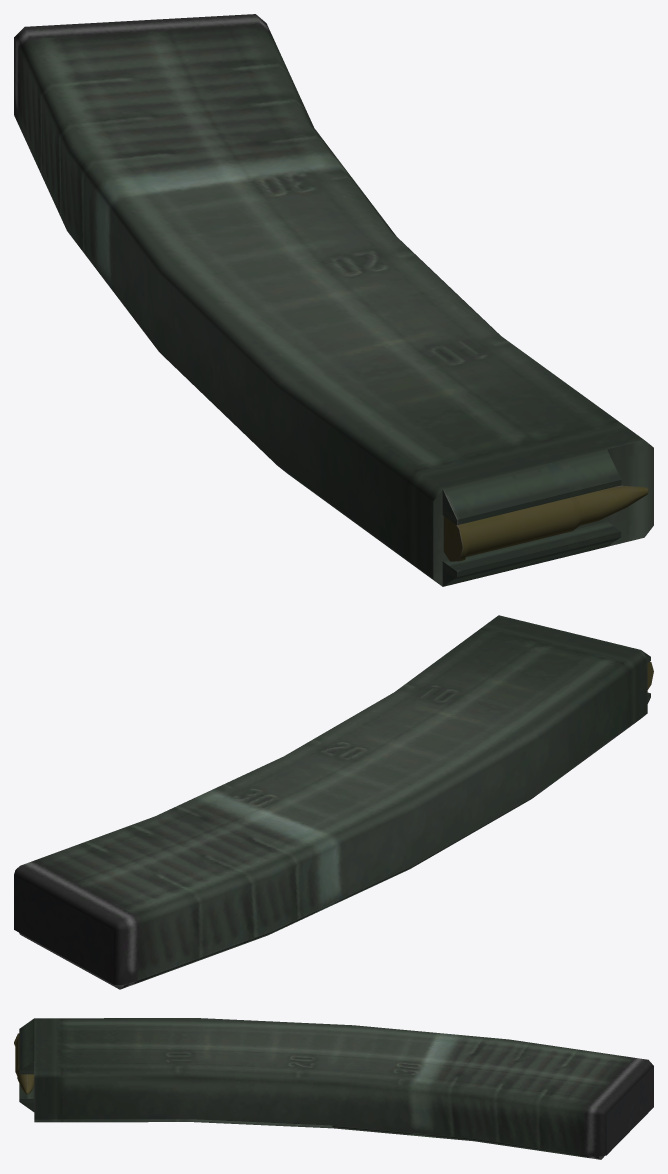
The model's file is t6_attach_mag_chicom_view_LOD0.obj.
The picture shows the model from 3 angles, top to bottom: view 1: azimuth 30°, elevation 25°; view 2: azimuth 150°, elevation 25°; view 3: azimuth 270°, elevation 25°; orthographic projection. The views are drawn at different scales.
Visible parts, largest first — view 1: mtl_t6_wpn_smg_chicom_camo1; view 2: mtl_t6_wpn_smg_chicom_camo1; view 3: mtl_t6_wpn_smg_chicom_camo1.
Part boxes in pixels (x1,y1,x2,y2): mtl_t6_wpn_smg_chicom_camo1: [14, 14, 653, 586]; mtl_t6_wpn_smg_chicom_camo1: [14, 615, 653, 989]; mtl_t6_wpn_smg_chicom_camo1: [14, 1018, 653, 1159].
Size of the model in its own units: 6.34 by 1.62 by 18.11.
